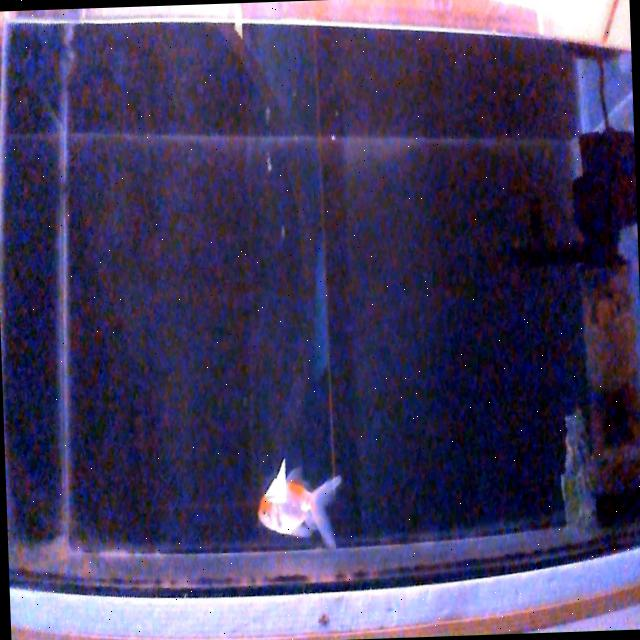fish: (255, 456, 345, 552)
